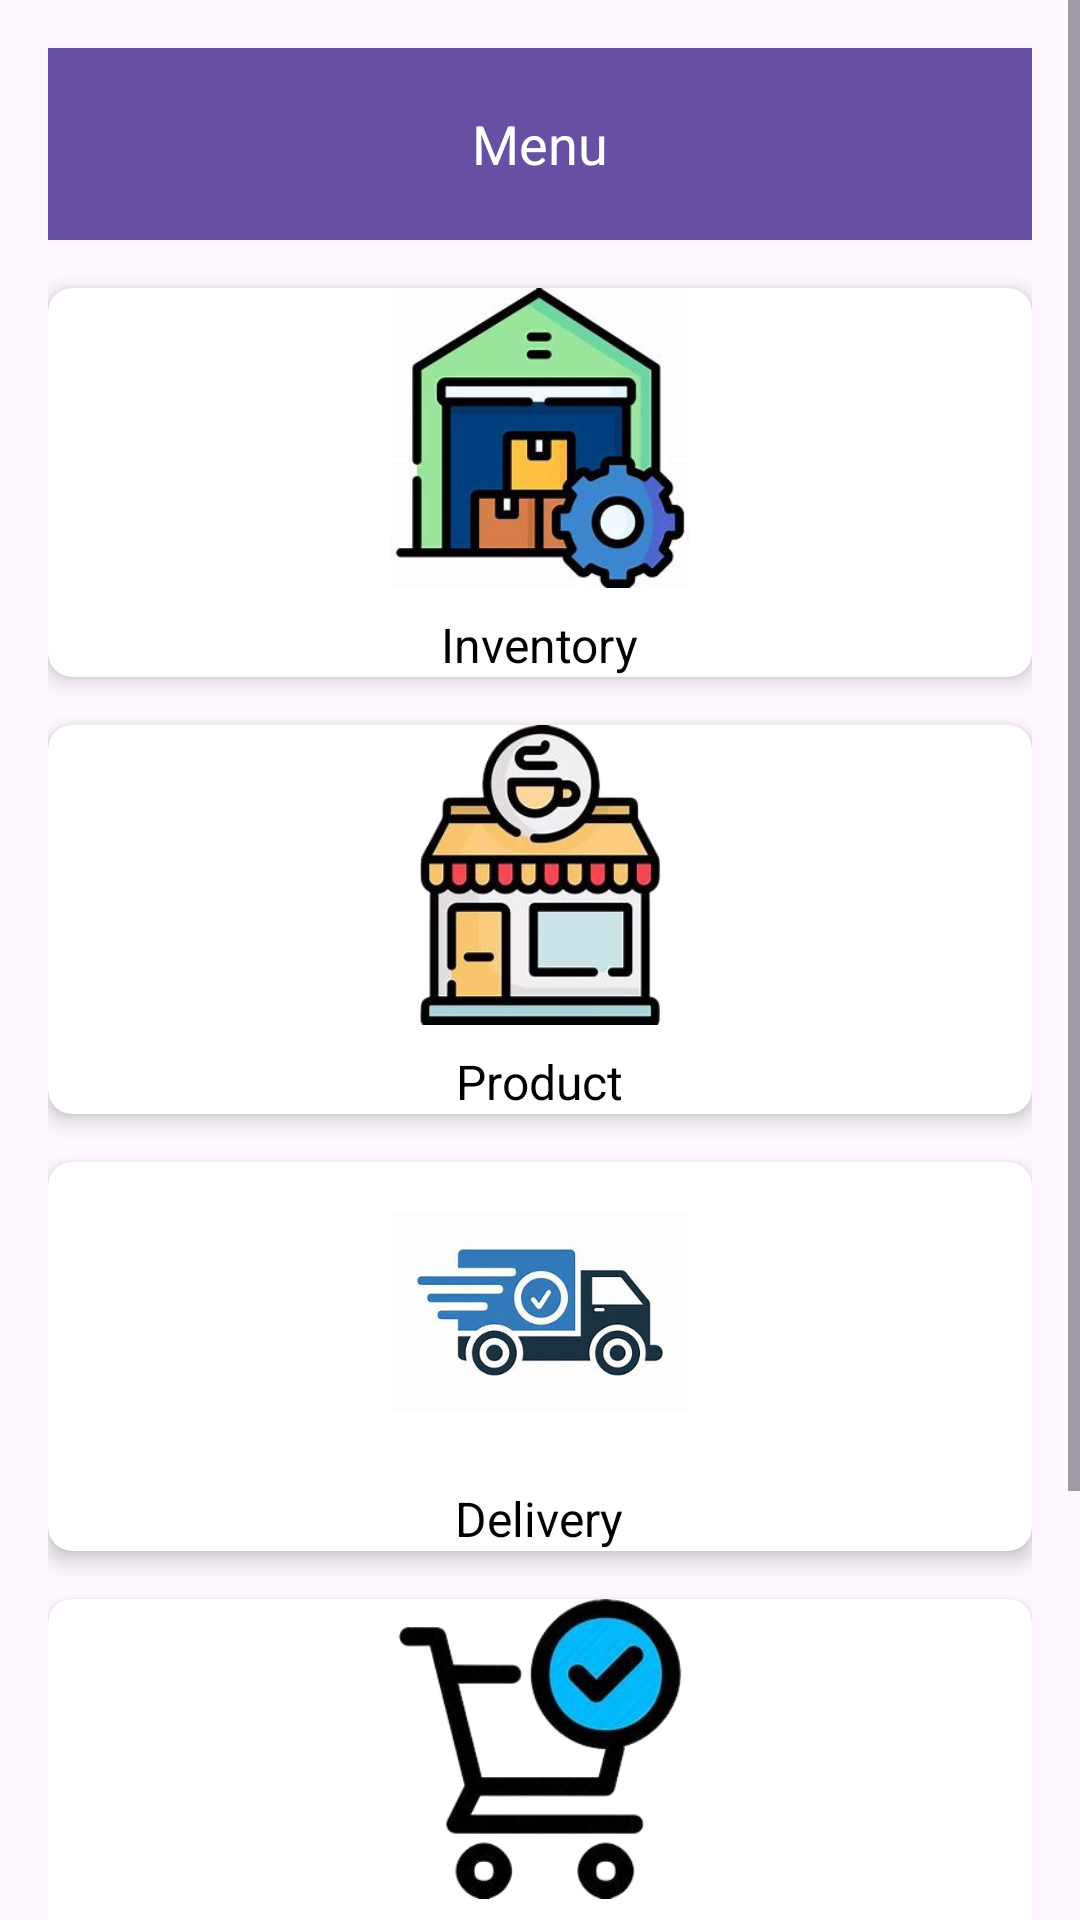

Locate icon controls on the screen. Image size 1080w x 1920h, boxes as [x1, y1, x2, y2].
Order: [399, 1599, 681, 1899]
